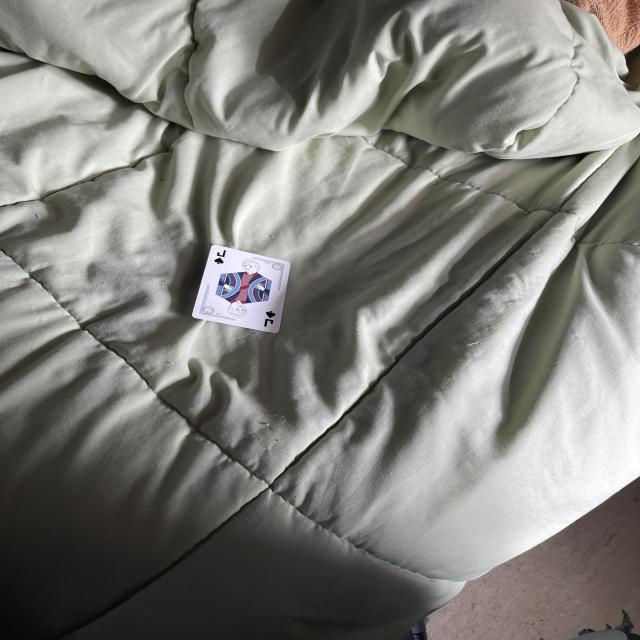Jack of spades: (193, 246, 290, 332)
